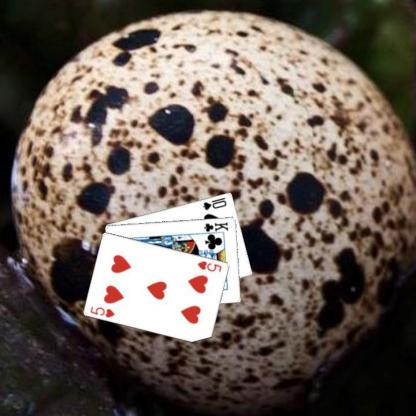10S: (200, 195, 228, 211)
5H: (195, 258, 223, 274), (88, 304, 116, 318)
KC: (200, 220, 230, 235)
